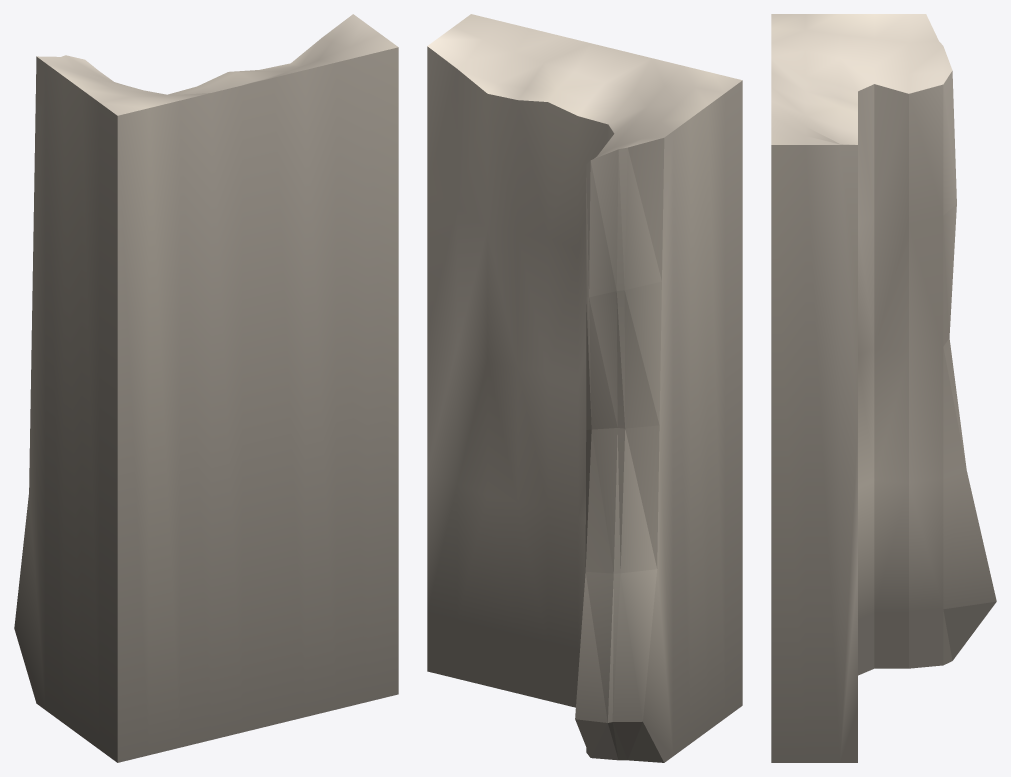
File: SM_VKI_Rock_Cave_FFOO_WallE.fbx
3 renders of one model, left to right at view 1: azimuth 30°, elevation 25°; view 2: azimuth 150°, elevation 25°; view 3: azimuth 270°, elevation 25°, orthographic. The views are drawn at different scales.
Visible parts, largest first — view 1: SM_VKI_Rock_Cave_FFOO_WallE.001; view 2: SM_VKI_Rock_Cave_FFOO_WallE.001; view 3: SM_VKI_Rock_Cave_FFOO_WallE.001.
Part boxes in pixels (box(x1,y1,x2,y2)): SM_VKI_Rock_Cave_FFOO_WallE.001: box(14, 14, 398, 762); SM_VKI_Rock_Cave_FFOO_WallE.001: box(427, 14, 742, 762); SM_VKI_Rock_Cave_FFOO_WallE.001: box(771, 14, 996, 762).
Size of the model in its own units: 1.5 by 3.3 by 1.09.
